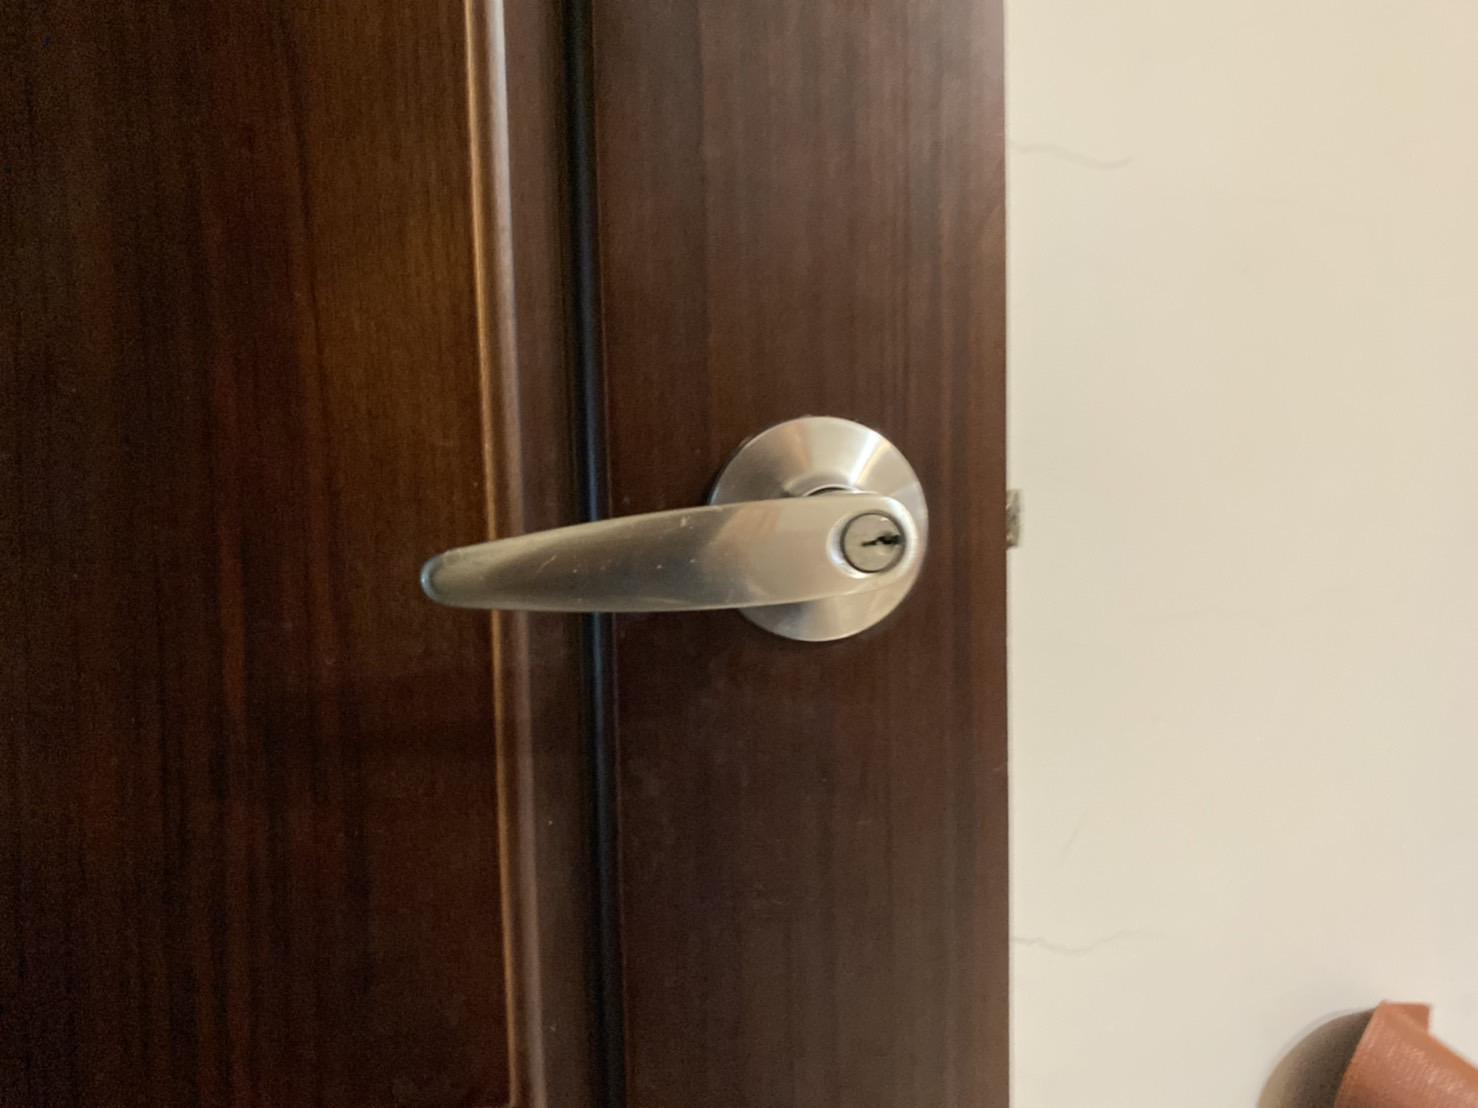doorhandle: (381, 398, 1036, 704)
